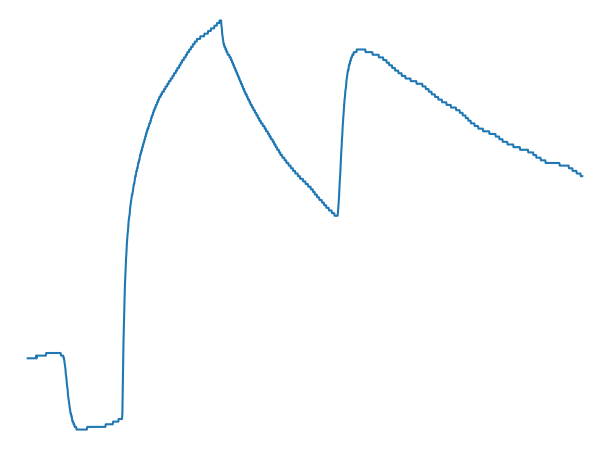decrease: (55, 342, 69, 366), (213, 14, 229, 32)
increase: (330, 201, 345, 222), (113, 408, 127, 427)
